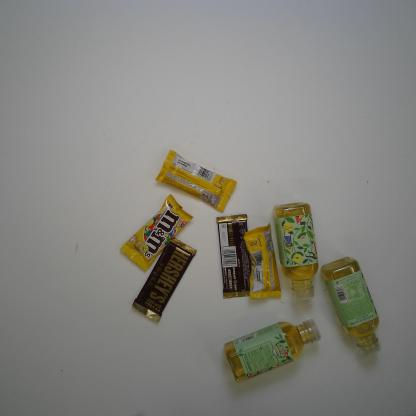Chocolate: (119, 193, 194, 272), (131, 236, 197, 324), (154, 149, 238, 212), (216, 213, 252, 299), (243, 222, 282, 300)
Drink: (224, 317, 322, 384), (320, 255, 382, 358), (272, 201, 320, 301)
